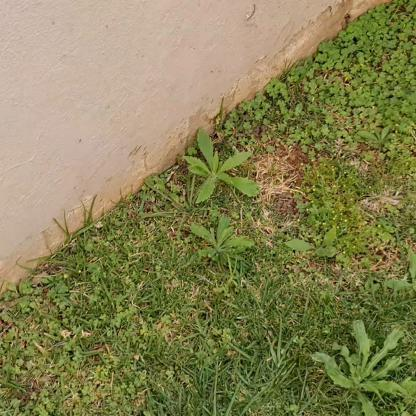Weeds: (312, 318, 407, 415), (183, 126, 260, 203), (189, 215, 254, 270), (286, 227, 338, 262), (385, 249, 415, 294), (360, 125, 395, 151)
